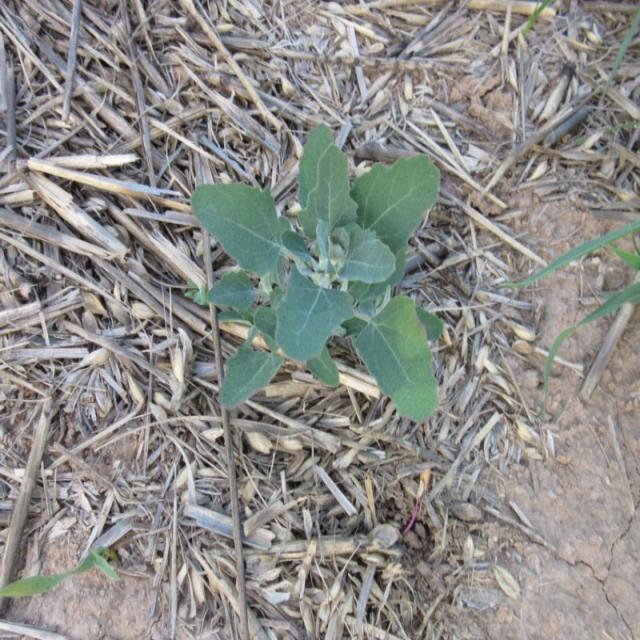ca: (188, 130, 447, 425)
